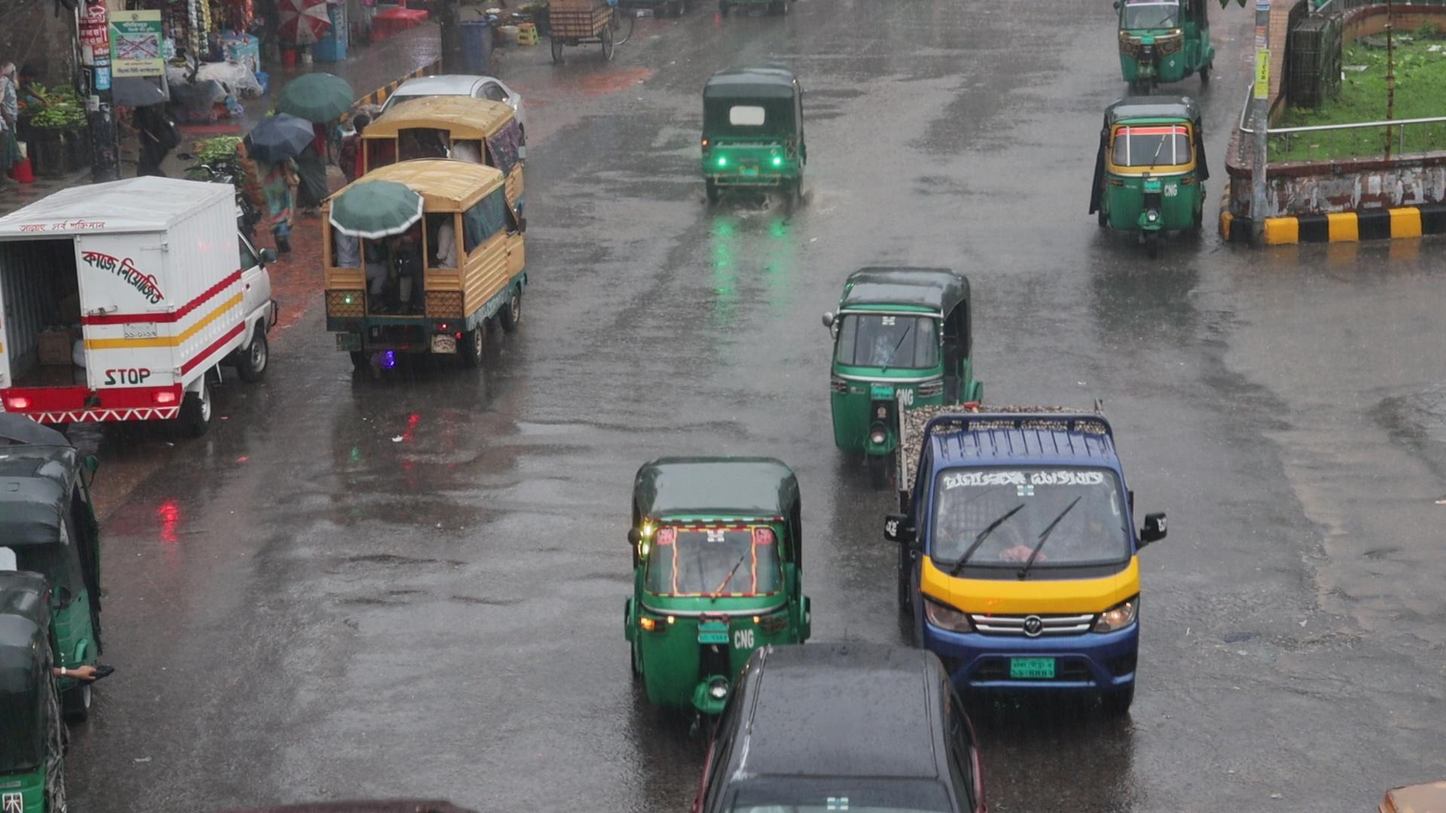Truck: (890, 393, 1138, 723), (309, 155, 522, 384)
